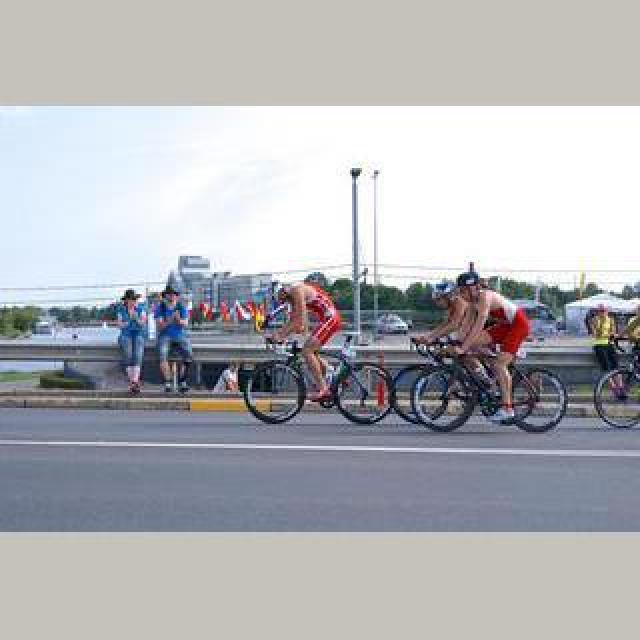Bus-Bike: (376, 312, 410, 336)
MC-Bike: (412, 278, 530, 424), (258, 276, 344, 404), (156, 286, 196, 394), (110, 288, 148, 394), (456, 260, 482, 288)
Person: (412, 342, 568, 434), (246, 330, 392, 426)
